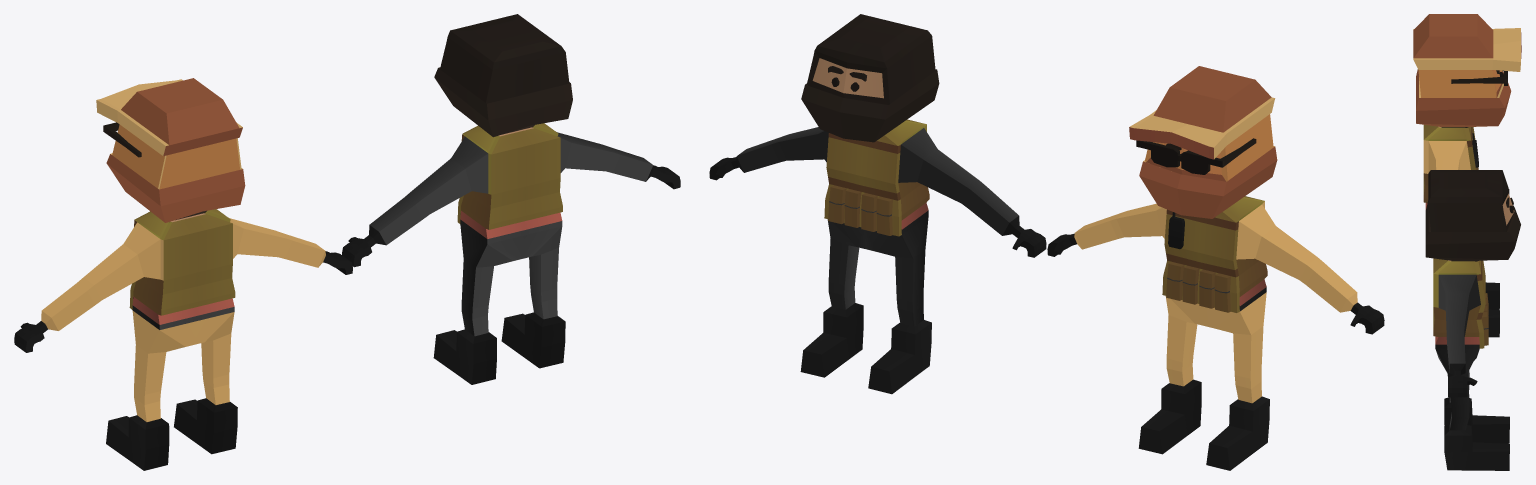
File: characters.glb
3 renders of one model, left to right at view 1: azimuth 30°, elevation 25°; view 2: azimuth 150°, elevation 25°; view 3: azimuth 270°, elevation 25°, orthographic. The views are drawn at different scales.
Visible parts, largest first — view 1: Cube.003, Cube.010; view 2: Cube.003, Cube.010, Cube.006; view 3: Cube.010, Cube.003, Cube.006, Cube.004.
Boxes of the visible parts, x1=… form: Cube.003: x1=14, y1=78, x2=352, y2=470; Cube.010: x1=342, y1=14, x2=680, y2=384; Cube.003: x1=1047, y1=66, x2=1384, y2=470; Cube.010: x1=709, y1=14, x2=1046, y2=394; Cube.006: x1=1136, y1=138, x2=1256, y2=174; Cube.010: x1=1425, y1=170, x2=1520, y2=470; Cube.003: x1=1413, y1=14, x2=1521, y2=337; Cube.006: x1=1451, y1=71, x2=1507, y2=85; Cube.004: x1=1472, y1=133, x2=1478, y2=167.
Size of the model in its own units: 5.89 by 3.05 by 1.02.
Materials: 1 (1 with a texture image).
